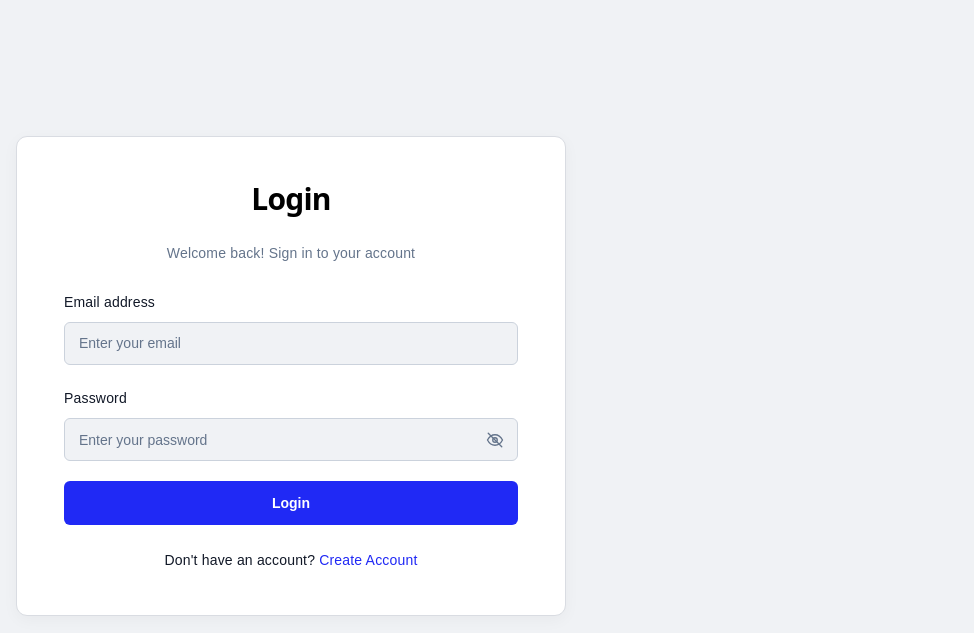
Test: Login component › displays a success toast when login succeeds
This screenshot has width=974, height=633.
Type "test@example.com" into the field labelled "Email address" at point(291, 344), box [64,322,518,365]
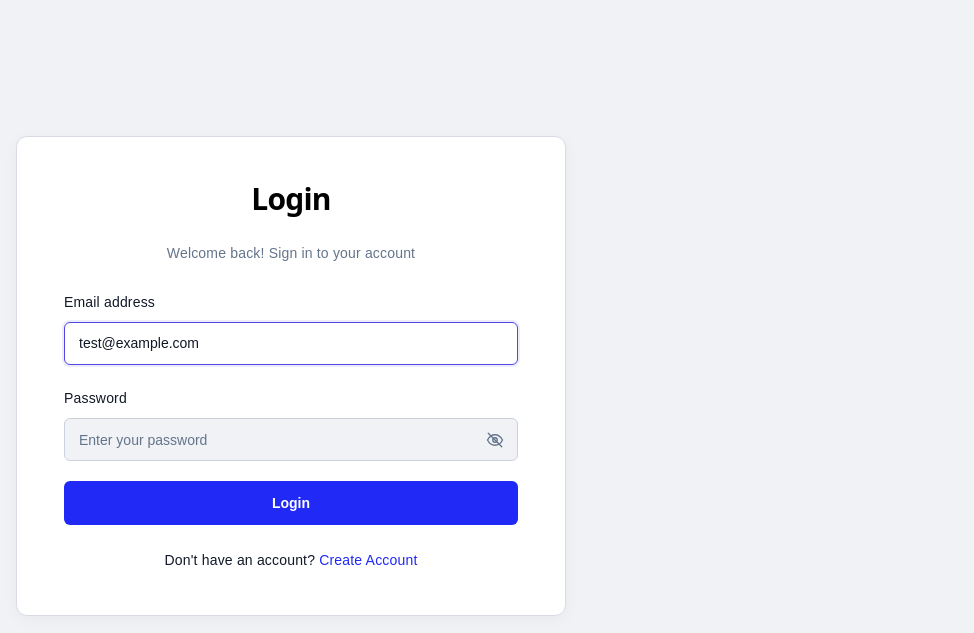
Type "Password123!" into the password field labelled "Password" at point(291, 440), box [64,418,518,461]
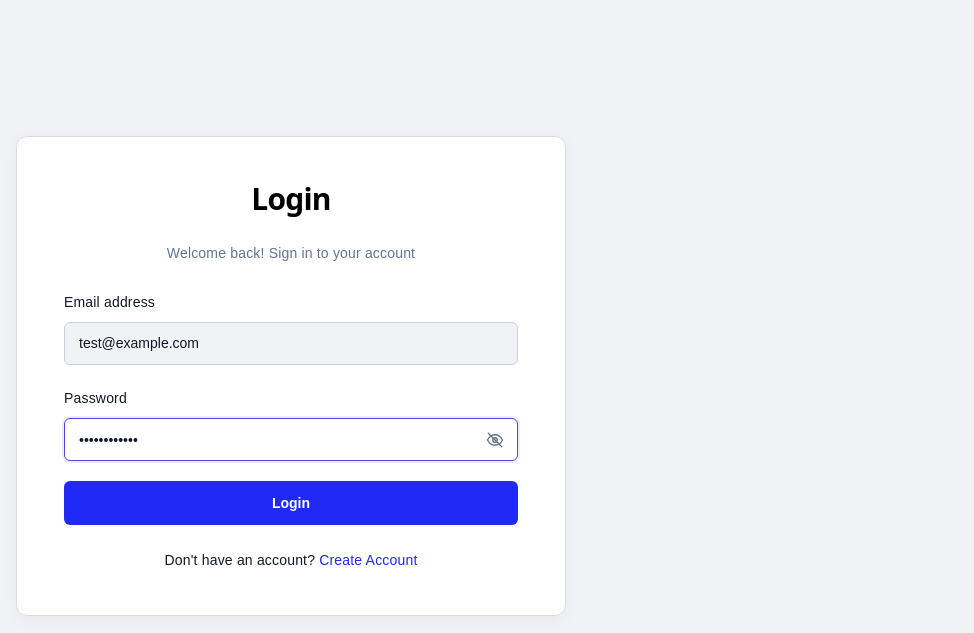
Click the button "Login" at point(291, 503), box [64,481,518,525]
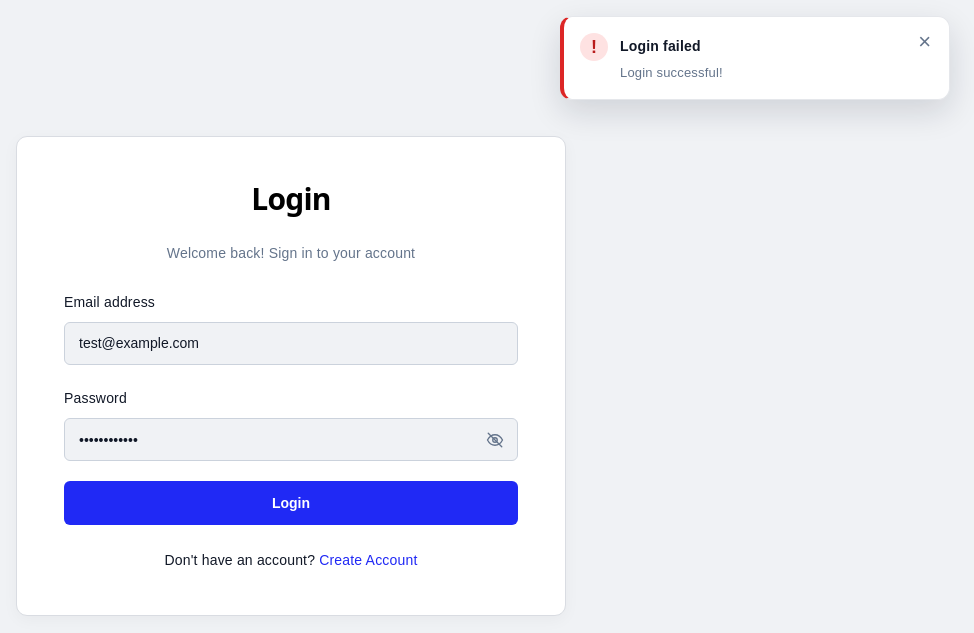
Expected: the text "Login successful!" is shown, [620,65,723,80]
